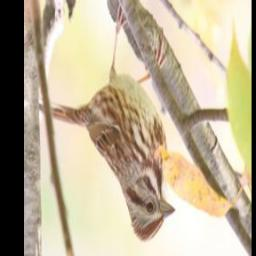Sparrow: (36, 1, 178, 246)
